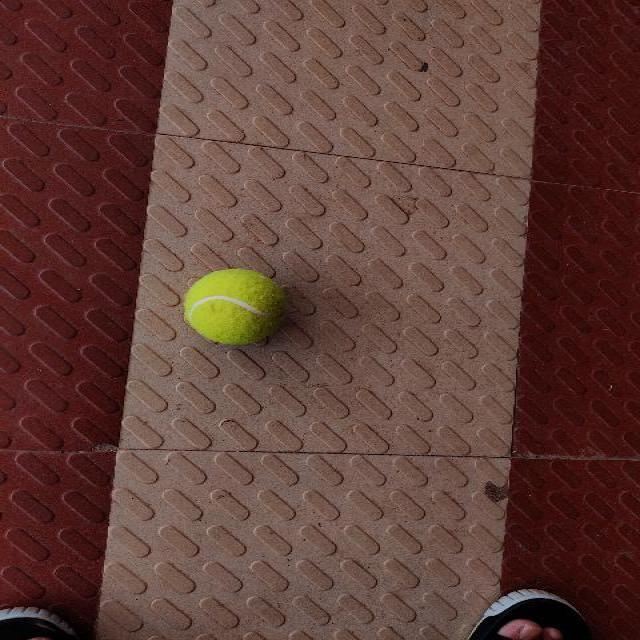tennis-ball: (183, 268, 285, 344)
